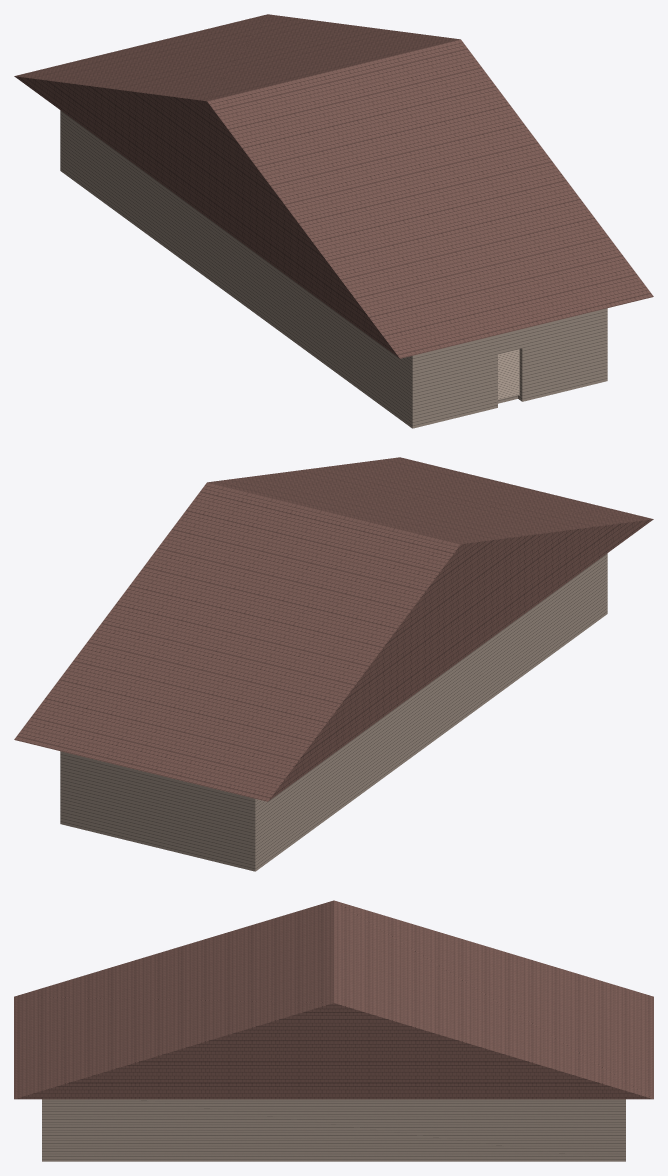
Rendered from rail_depot.glb.
3 views of the same model, one above another, from view 1: azimuth 30°, elevation 25°; view 2: azimuth 150°, elevation 25°; view 3: azimuth 270°, elevation 25° (orthographic). The views are drawn at different scales.
Parts seen in each view (by area): view 1: rail_depot-col; view 2: rail_depot-col; view 3: rail_depot-col.
Boxes of the visible parts, x1=… form: rail_depot-col: x1=14, y1=14, x2=653, y2=428; rail_depot-col: x1=14, y1=457, x2=653, y2=871; rail_depot-col: x1=14, y1=900, x2=653, y2=1161.
Bounding box in the file's own units: 10.4 × 8.05 × 27.4.
2 materials, 2 textured.
